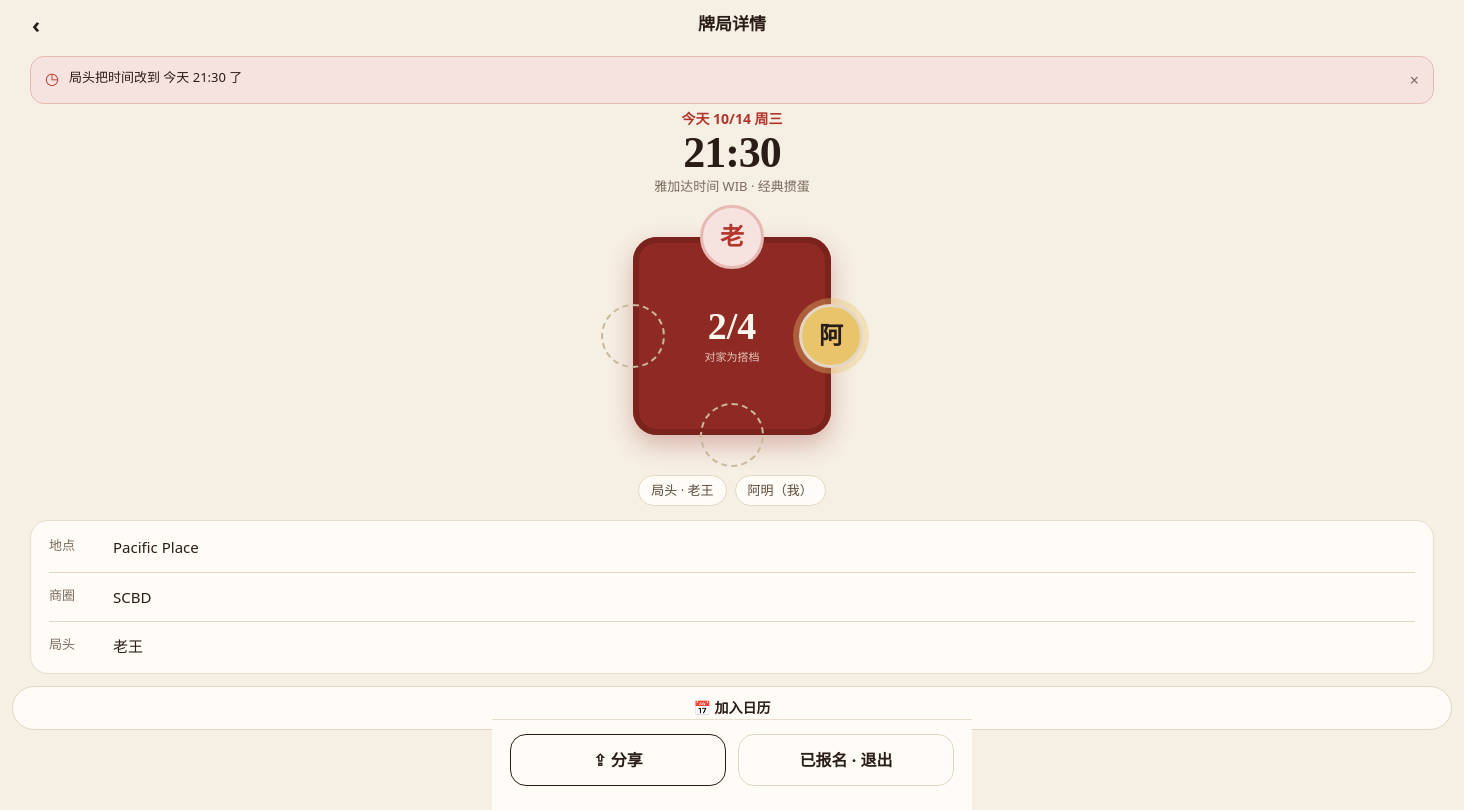
详情页 › R1：实时事件带来新时间 → 出改时间横幅，关掉后刷新也不再出
Expected: the message with test id "notice-rescheduled" shows "局头把时间改到", [69, 68, 242, 86]
Expected: the message with test id "notice-rescheduled" shows "21:30", [69, 68, 242, 86]
Click the button "×" at [1414, 80], box [1410, 68, 1419, 92]
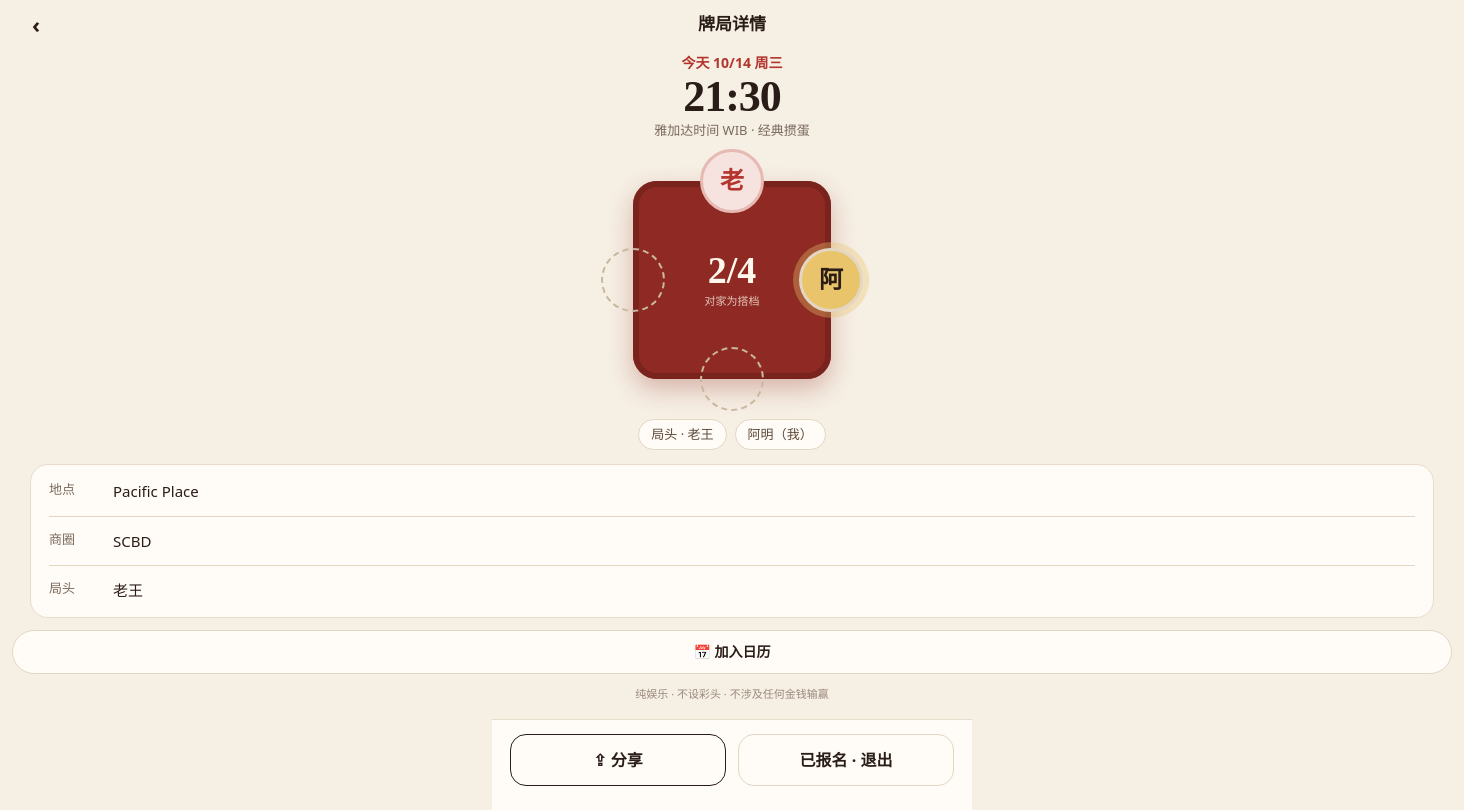
Result: the message with test id "notice-rescheduled" is gone
